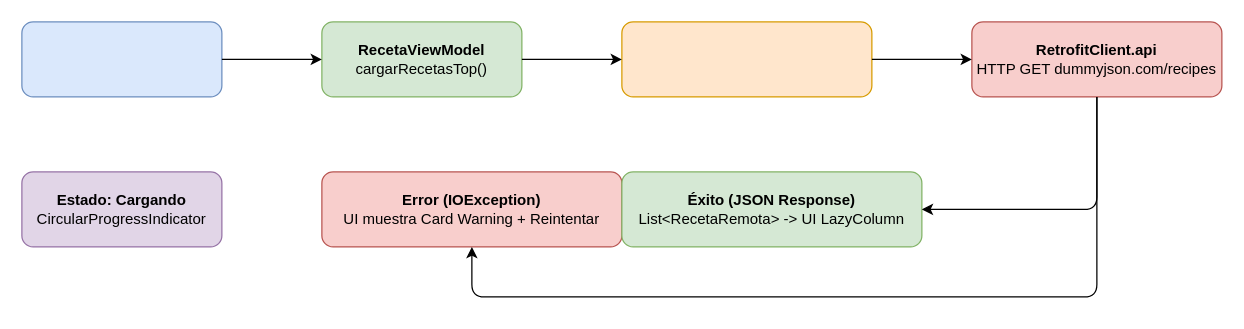
Some shapes in this 1244 by 329 pixel diagram are drawn without their labels. The shapes that lost their labels are listed below. From the top down, each one's centre as x and y in pixels, then its label:
(x=121, y=59): PantallaRecetasTop (LaunchedEffect)
(x=746, y=59): RecetaRepository obtenerRecetasTopRemotas()
